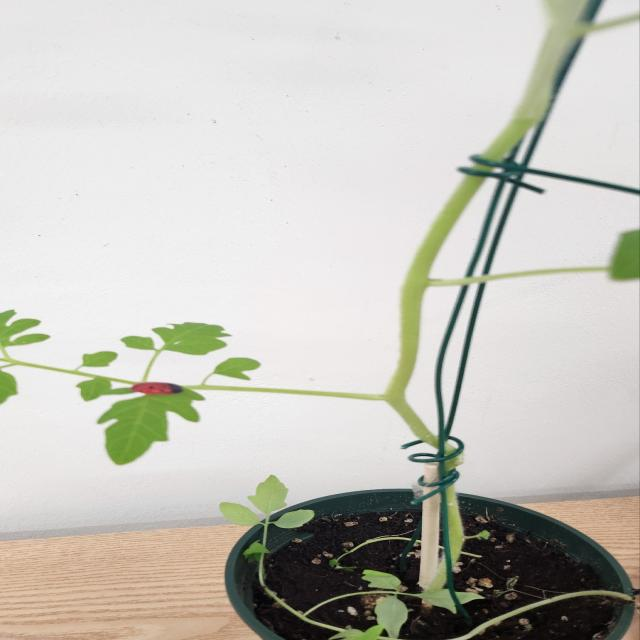bug: (111, 375, 204, 403)
